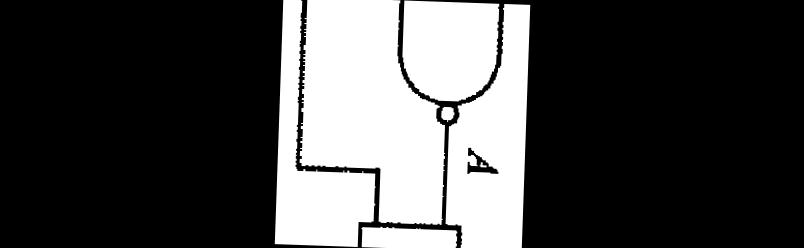and: (347, 214, 468, 248)
nand: (384, 0, 511, 135)
